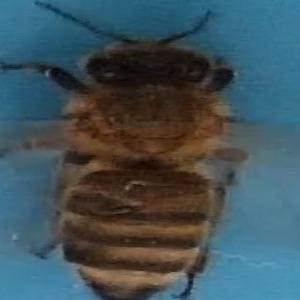bee: (7, 16, 268, 300)
